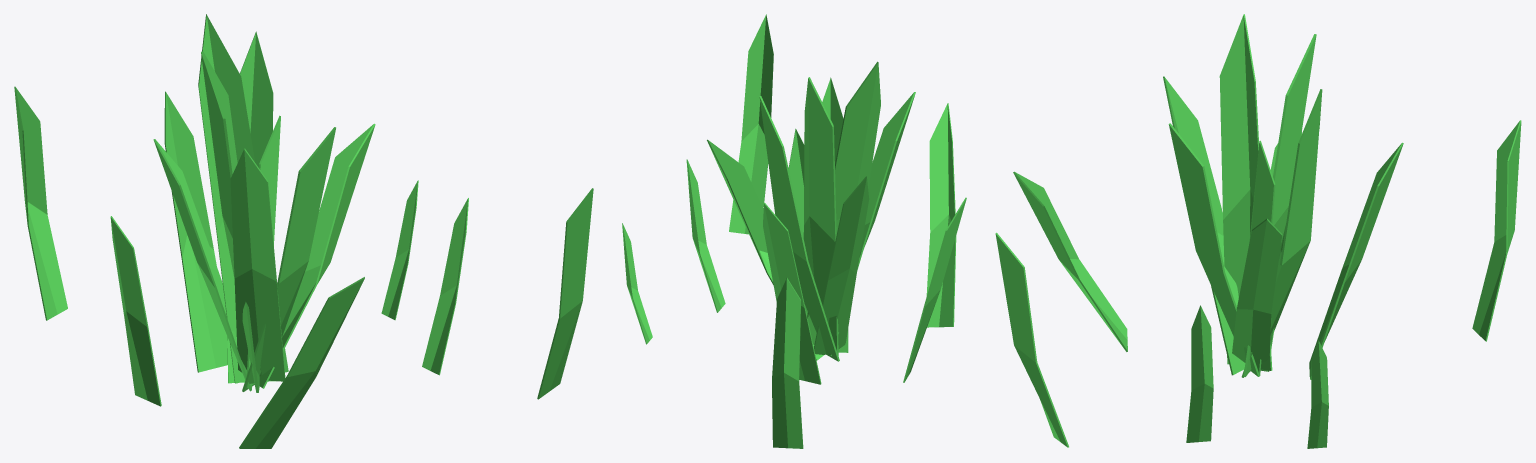
Rendered from Grass1.fbx.
3 views of the same model, side by side, from view 1: azimuth 30°, elevation 25°; view 2: azimuth 150°, elevation 25°; view 3: azimuth 270°, elevation 25° (orthographic). The views are drawn at different scales.
Parts seen in each view (by area): view 1: Plane.026, Plane.035, Plane.032, Plane.025, Plane.039, Plane.034, Plane.030, Plane.033, Plane.036, Plane.029, Plane.028, Plane.027 (+3 smaller); view 2: Plane.032, Plane.034, Plane.039, Plane.033, Plane.029, Plane.027, Plane.028, Plane.035, Plane.030, Plane.026, Plane.036, Plane.038 (+3 smaller); view 3: Plane.029, Plane.030, Plane.027, Plane.025, Plane.039, Plane.033, Plane.032, Plane.034, Plane.026, Plane.035, Plane.038, Plane.037 (+1 smaller).
Boxes of the visible parts, left/top/right/bottom form: Plane.026: left=230, top=148, right=285, bottom=381; Plane.035: left=164, top=91, right=227, bottom=372; Plane.032: left=198, top=14, right=288, bottom=383; Plane.025: left=242, top=127, right=335, bottom=391; Plane.039: left=14, top=86, right=67, bottom=320; Plane.034: left=239, top=277, right=364, bottom=448; Plane.030: left=259, top=123, right=375, bottom=388; Plane.033: left=537, top=188, right=593, bottom=399; Plane.036: left=110, top=216, right=161, bottom=406; Plane.029: left=201, top=51, right=259, bottom=392; Plane.028: left=153, top=139, right=252, bottom=391; Plane.027: left=227, top=31, right=275, bottom=383; Plane.032: left=803, top=77, right=838, bottom=355; Plane.034: left=926, top=103, right=956, bottom=327; Plane.039: left=772, top=278, right=803, bottom=448; Plane.033: left=729, top=14, right=773, bottom=234; Plane.029: left=807, top=61, right=880, bottom=344; Plane.027: left=759, top=96, right=839, bottom=361; Plane.028: left=814, top=176, right=869, bottom=354; Plane.035: left=763, top=203, right=821, bottom=384; Plane.030: left=707, top=139, right=823, bottom=360; Plane.026: left=829, top=92, right=915, bottom=355; Plane.036: left=903, top=197, right=966, bottom=382; Plane.038: left=686, top=159, right=725, bottom=312; Plane.029: left=1219, top=14, right=1272, bottom=370; Plane.030: left=1232, top=218, right=1282, bottom=371; Plane.027: left=1241, top=89, right=1322, bottom=377; Plane.025: left=1168, top=123, right=1259, bottom=376; Plane.039: left=1472, top=120, right=1521, bottom=341; Plane.033: left=995, top=232, right=1068, bottom=447; Plane.032: left=1243, top=34, right=1316, bottom=376; Plane.034: left=1013, top=171, right=1127, bottom=351; Plane.026: left=1163, top=76, right=1245, bottom=375; Plane.035: left=1309, top=142, right=1403, bottom=379; Plane.038: left=1186, top=305, right=1213, bottom=442; Plane.037: left=1307, top=340, right=1328, bottom=448.
Size of the model in its own units: 94.92 by 88.15 by 125.
